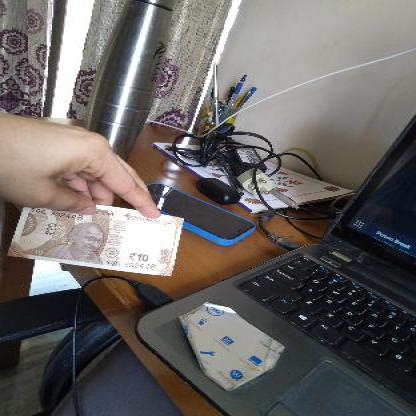New10Front: (24, 199, 181, 274)
